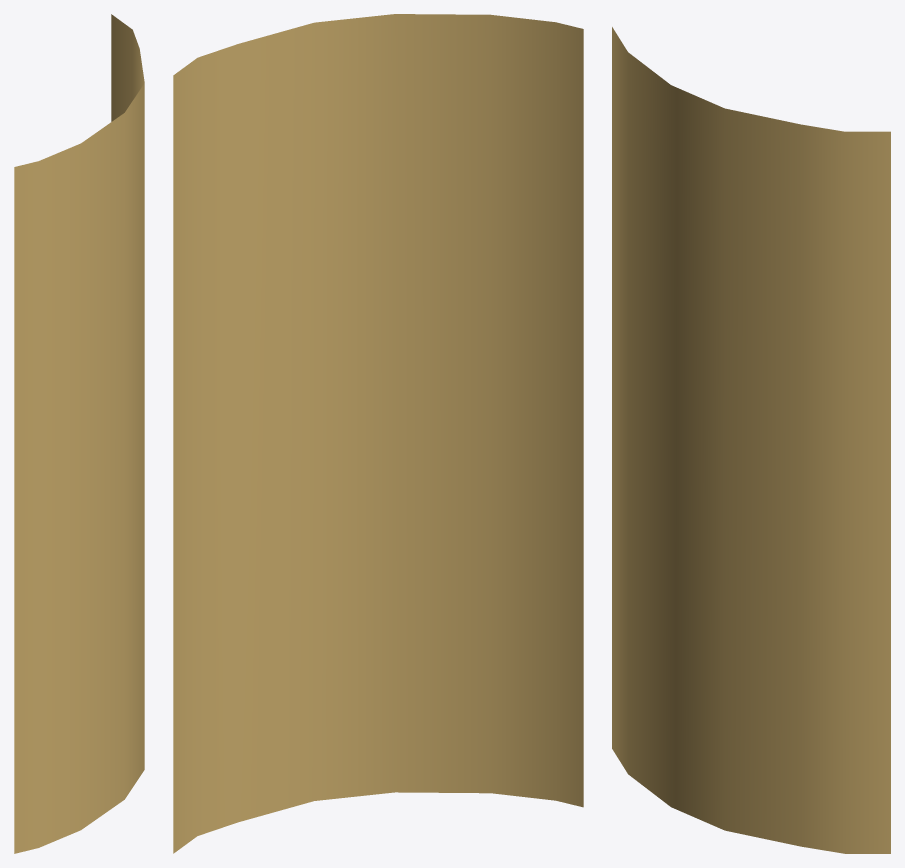
Rendered from SandBlock_Middle_InteriorCorner_Mesh.fbx.
3 renders of one model, left to right at view 1: azimuth 30°, elevation 25°; view 2: azimuth 150°, elevation 25°; view 3: azimuth 270°, elevation 25°, orthographic. The views are drawn at different scales.
Parts seen in each view (by area): view 1: SandBlock_Middle_InteriorCorner; view 2: SandBlock_Middle_InteriorCorner; view 3: SandBlock_Middle_InteriorCorner.
Boxes of the visible parts, x1,y1,x2,y2 form: SandBlock_Middle_InteriorCorner: (14,14,144,853); SandBlock_Middle_InteriorCorner: (173,14,583,853); SandBlock_Middle_InteriorCorner: (612,27,890,853).
Bounding box in the file's own units: 69.98 × 69.98 × 200.
